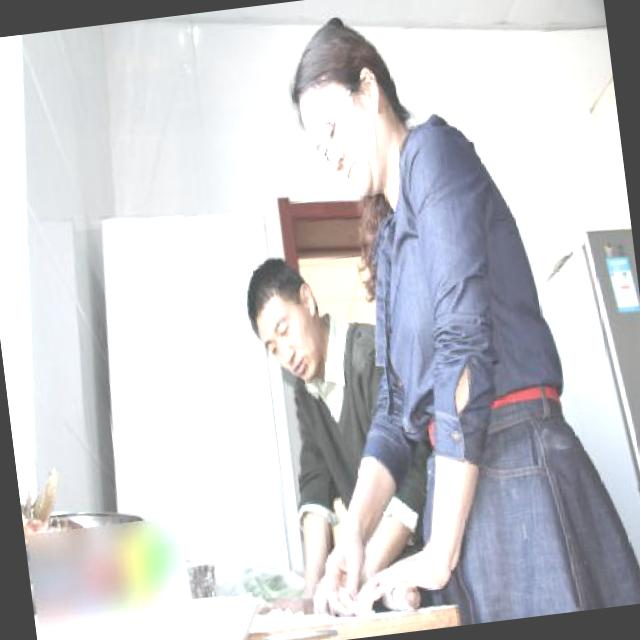Person: (277, 0, 579, 633)
